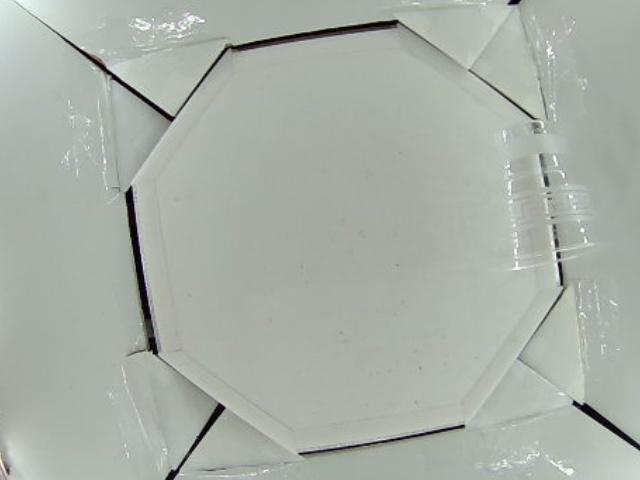Cup: (485, 120, 601, 276)
